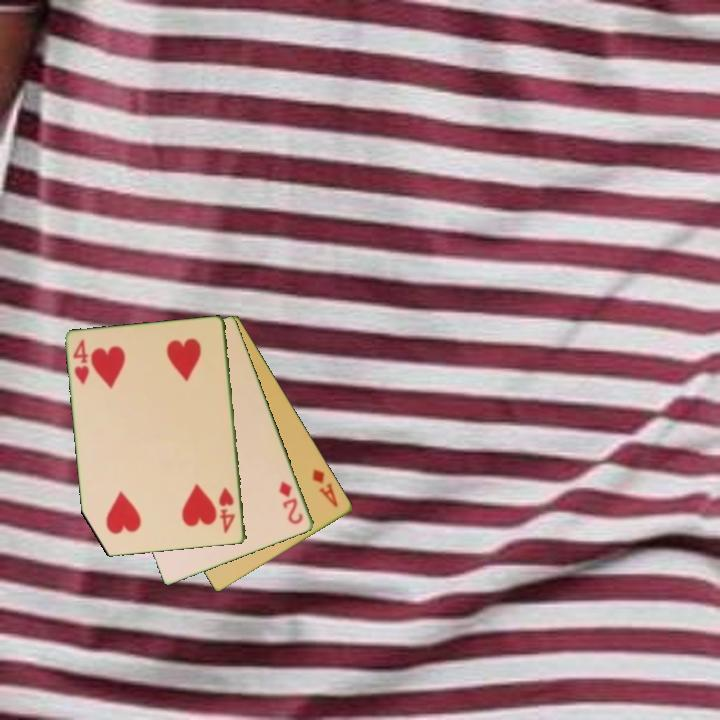2d: (276, 478, 306, 527)
4h: (216, 484, 238, 536), (70, 336, 92, 388)
Ad: (309, 465, 342, 510)
